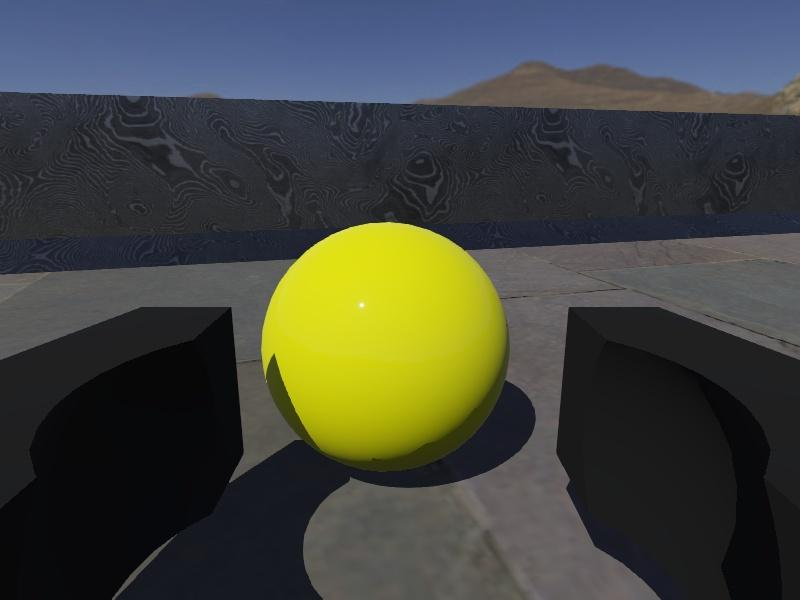yellow ball: (261, 221, 509, 473)
